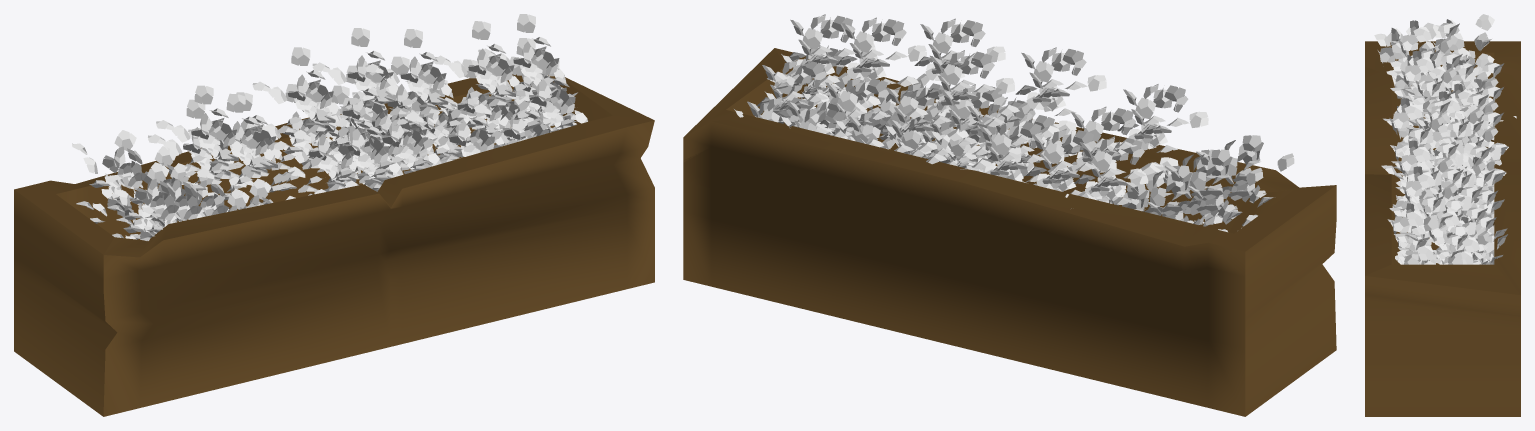
Rendered from DoniceZKwiatami2.fbx.
3 renders of one model, left to right at view 1: azimuth 30°, elevation 25°; view 2: azimuth 150°, elevation 25°; view 3: azimuth 270°, elevation 25°, orthographic. The views are drawn at different scales.
Parts seen in each view (by area): view 1: Donica, Kwiatki.002; view 2: Donica, Kwiatki.002; view 3: Donica, Kwiatki.002.
Part boxes in pixels (<box>): Donica: <box>14,74,654,416</box>; Kwiatki.002: <box>72,14,587,240</box>; Donica: <box>683,48,1336,416</box>; Kwiatki.002: <box>734,14,1294,232</box>; Donica: <box>1365,41,1520,416</box>; Kwiatki.002: <box>1374,14,1516,264</box>.
Size of the model in its own units: 351 by 164 by 98.61.
